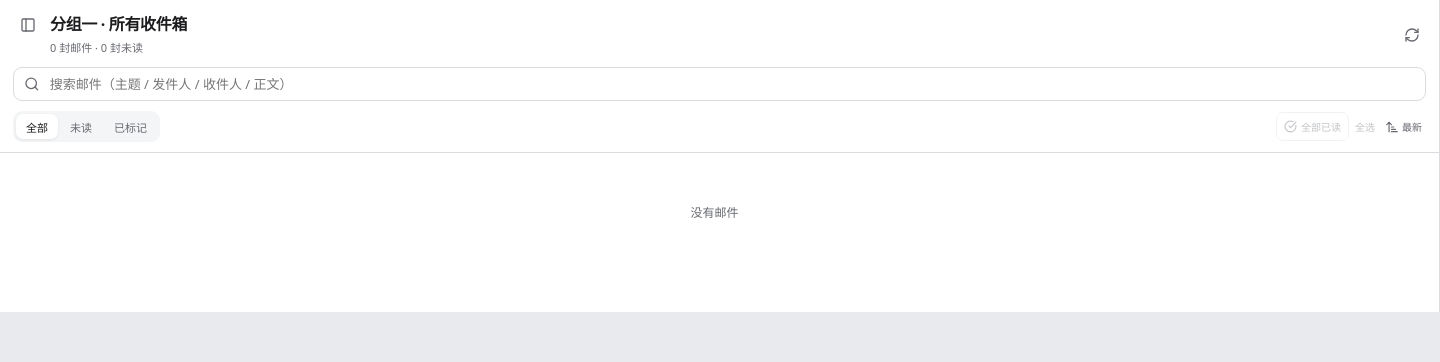
Test: <MessageList /> › immediate sync in a group view waits out the created requests when another account submission fails, then reports the failure
What coordinates should you click on to do the following:
click the button named "立即同步"
I would click on:
 (1412, 34)
Its box is 1397,20 -> 1426,49.
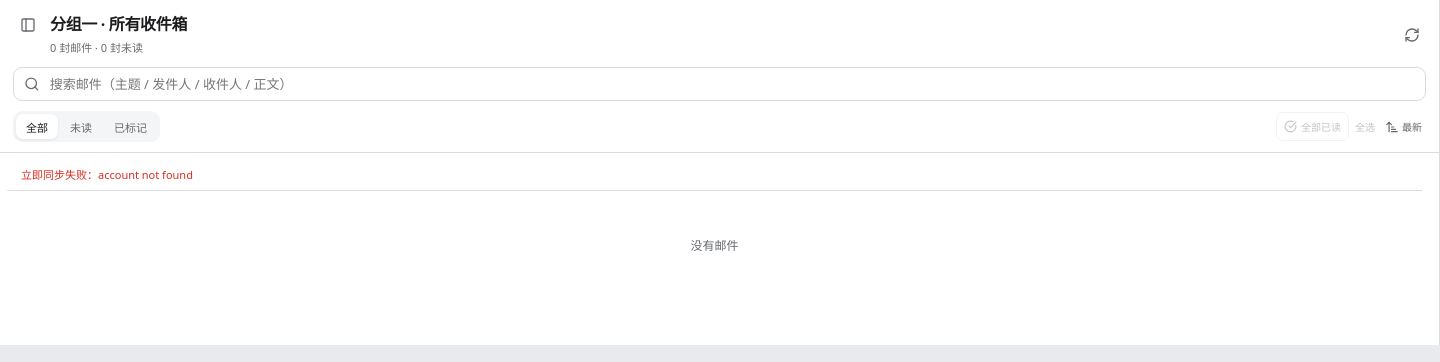
Expected: the message with class "error" shows "立即同步失败", 21,167 -> 193,182
